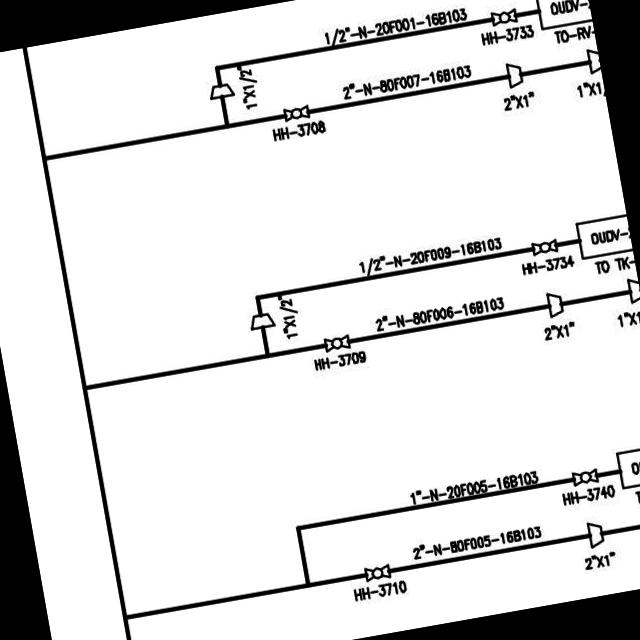BV2: (360, 560, 396, 586), (568, 461, 602, 488), (278, 100, 314, 125), (526, 233, 561, 258), (485, 6, 521, 30), (320, 332, 352, 354)
SP: (498, 55, 528, 92), (542, 286, 568, 320), (202, 78, 235, 102), (247, 308, 277, 334), (584, 516, 606, 550)
